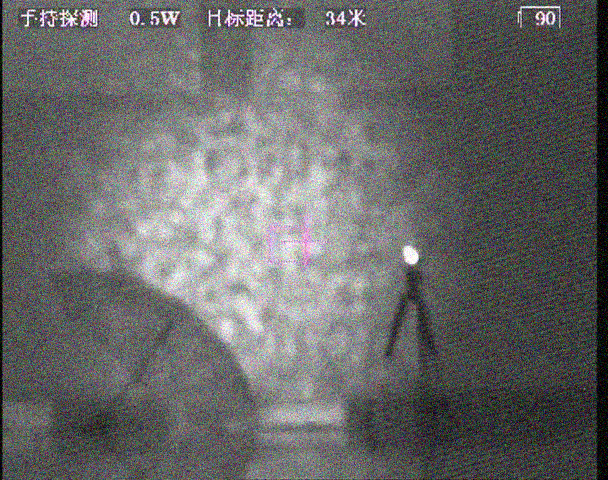my: (402, 244, 421, 265)
